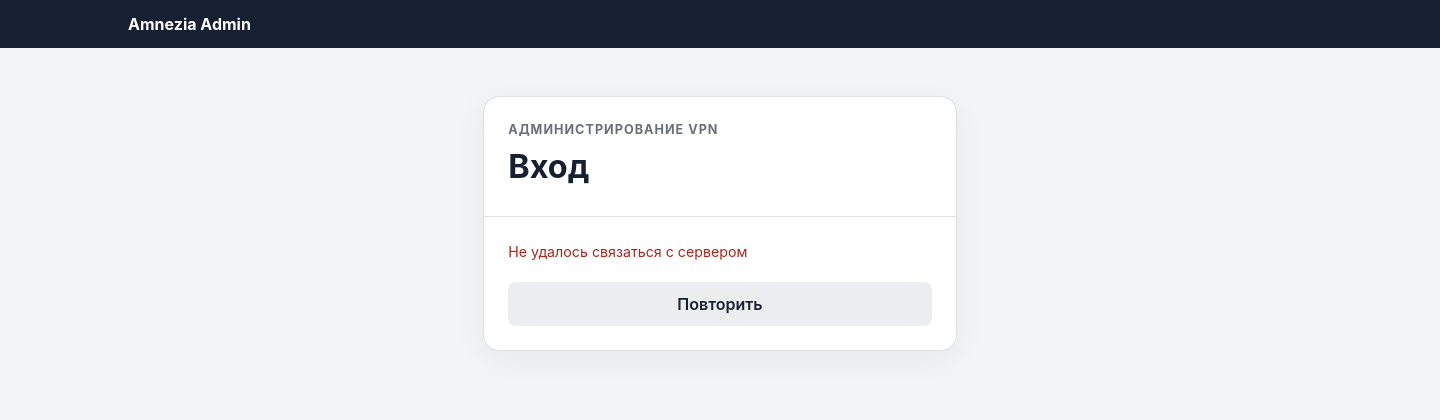
Test: authentication mode › shows mode errors without a default form and retries the mode request
Later steps or results of the test are not shown.
Check: the message reads "Не удалось связаться с сервером", box [508, 243, 748, 260]
Check: the field labelled "Пароль" is not shown
What coordinates should you click on to do the following:
click the button "Повторить"
I would click on:
 (720, 304)
Its box is [508, 282, 932, 326].
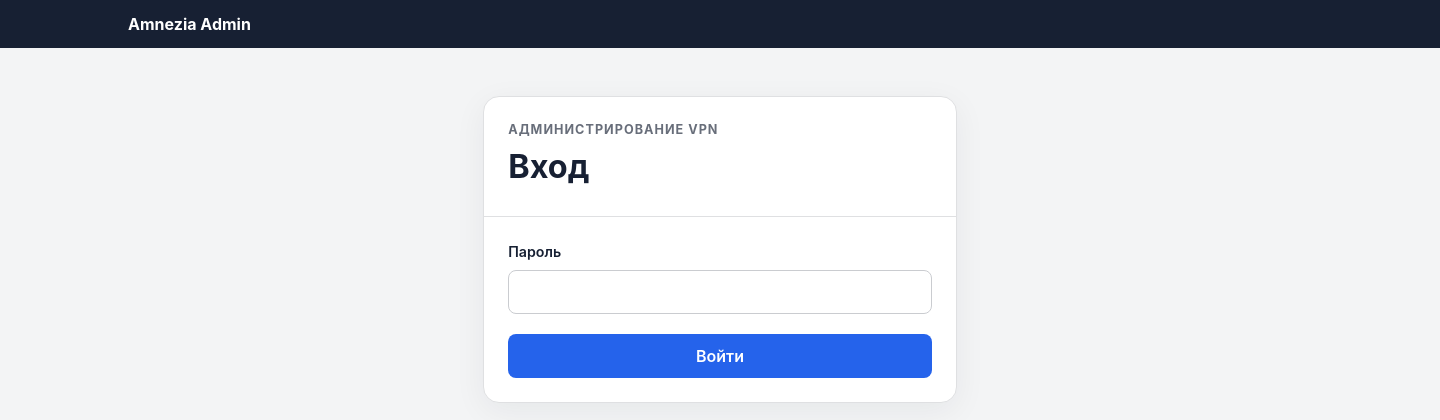
Check: the message "Не удалось связаться с сервером" is gone
Check: the password field labelled "Пароль" is shown, box [508, 270, 932, 314]
